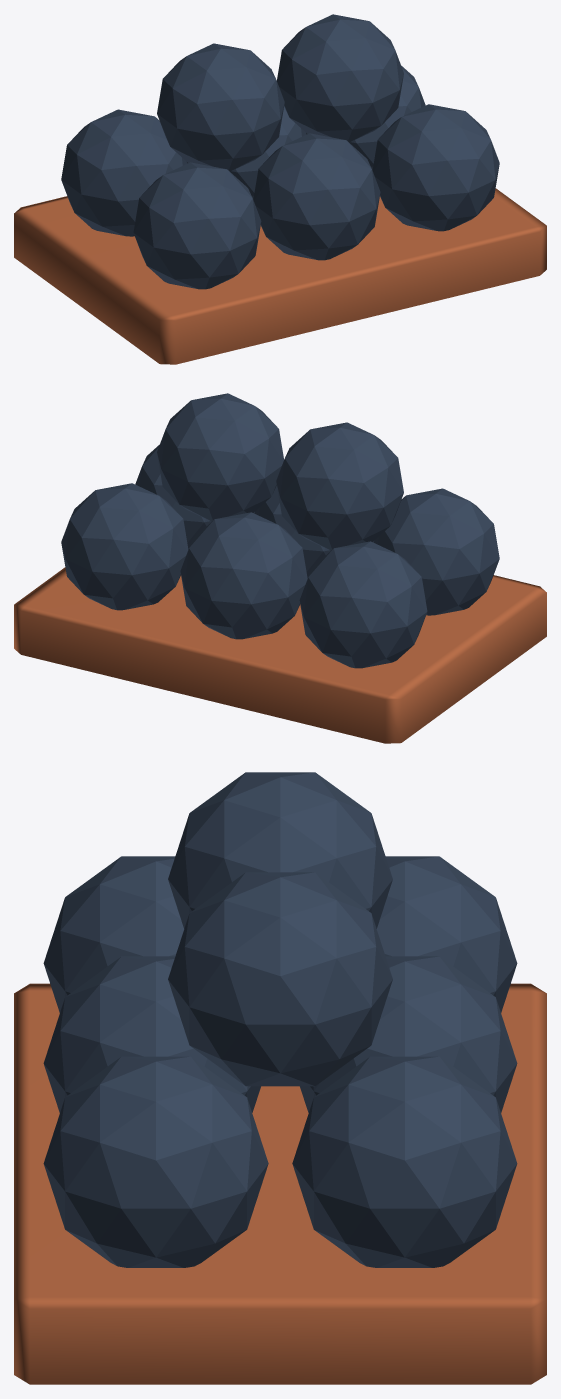
The model's file is cannonball-rack.glb.
3 renders of one model, top to bottom at view 1: azimuth 30°, elevation 25°; view 2: azimuth 150°, elevation 25°; view 3: azimuth 270°, elevation 25°, orthographic. The views are drawn at different scales.
Parts seen in each view (by area): view 1: Shot tray, Cannon shot, Cannon shot.002, Cannon shot.001, Upper shot, Upper shot.001, Cannon shot.003, Cannon shot.005, Cannon shot.004; view 2: Shot tray, Cannon shot.003, Cannon shot.005, Cannon shot.004, Upper shot, Upper shot.001, Cannon shot, Cannon shot.002, Cannon shot.001; view 3: Shot tray, Upper shot.001, Cannon shot.002, Cannon shot.005, Upper shot, Cannon shot.001, Cannon shot.004, Cannon shot, Cannon shot.003.
Boxes of the visible parts, x1=… form: Shot tray: x1=14, y1=188, x2=546, y2=364; Cannon shot: x1=133, y1=162, x2=261, y2=289; Cannon shot.002: x1=372, y1=104, x2=499, y2=231; Cannon shot.001: x1=253, y1=133, x2=380, y2=260; Upper shot: x1=157, y1=43, x2=284, y2=171; Upper shot.001: x1=277, y1=14, x2=403, y2=142; Cannon shot.003: x1=61, y1=109, x2=187, y2=236; Cannon shot.005: x1=306, y1=66, x2=425, y2=170; Cannon shot.004: x1=187, y1=106, x2=306, y2=198; Shot tray: x1=14, y1=567, x2=546, y2=743; Cannon shot.003: x1=299, y1=541, x2=427, y2=668; Cannon shot.005: x1=61, y1=483, x2=188, y2=610; Cannon shot.004: x1=180, y1=512, x2=307, y2=639; Upper shot: x1=276, y1=422, x2=403, y2=550; Upper shot.001: x1=157, y1=393, x2=283, y2=521; Cannon shot: x1=373, y1=488, x2=499, y2=615; Cannon shot.002: x1=135, y1=445, x2=254, y2=549; Cannon shot.001: x1=254, y1=485, x2=373, y2=577; Shot tray: x1=14, y1=983, x2=546, y2=1384; Upper shot.001: x1=168, y1=872, x2=392, y2=1086; Cannon shot.002: x1=43, y1=1056, x2=268, y2=1267; Cannon shot.005: x1=292, y1=1056, x2=517, y2=1267; Upper shot: x1=168, y1=772, x2=392, y2=928; Cannon shot.001: x1=43, y1=956, x2=260, y2=1112; Cannon shot.004: x1=300, y1=956, x2=517, y2=1112; Cannon shot: x1=43, y1=856, x2=184, y2=1012; Cannon shot.003: x1=376, y1=856, x2=517, y2=1012.
Size of the model in its own units: 1.3 by 0.74 by 0.9.
